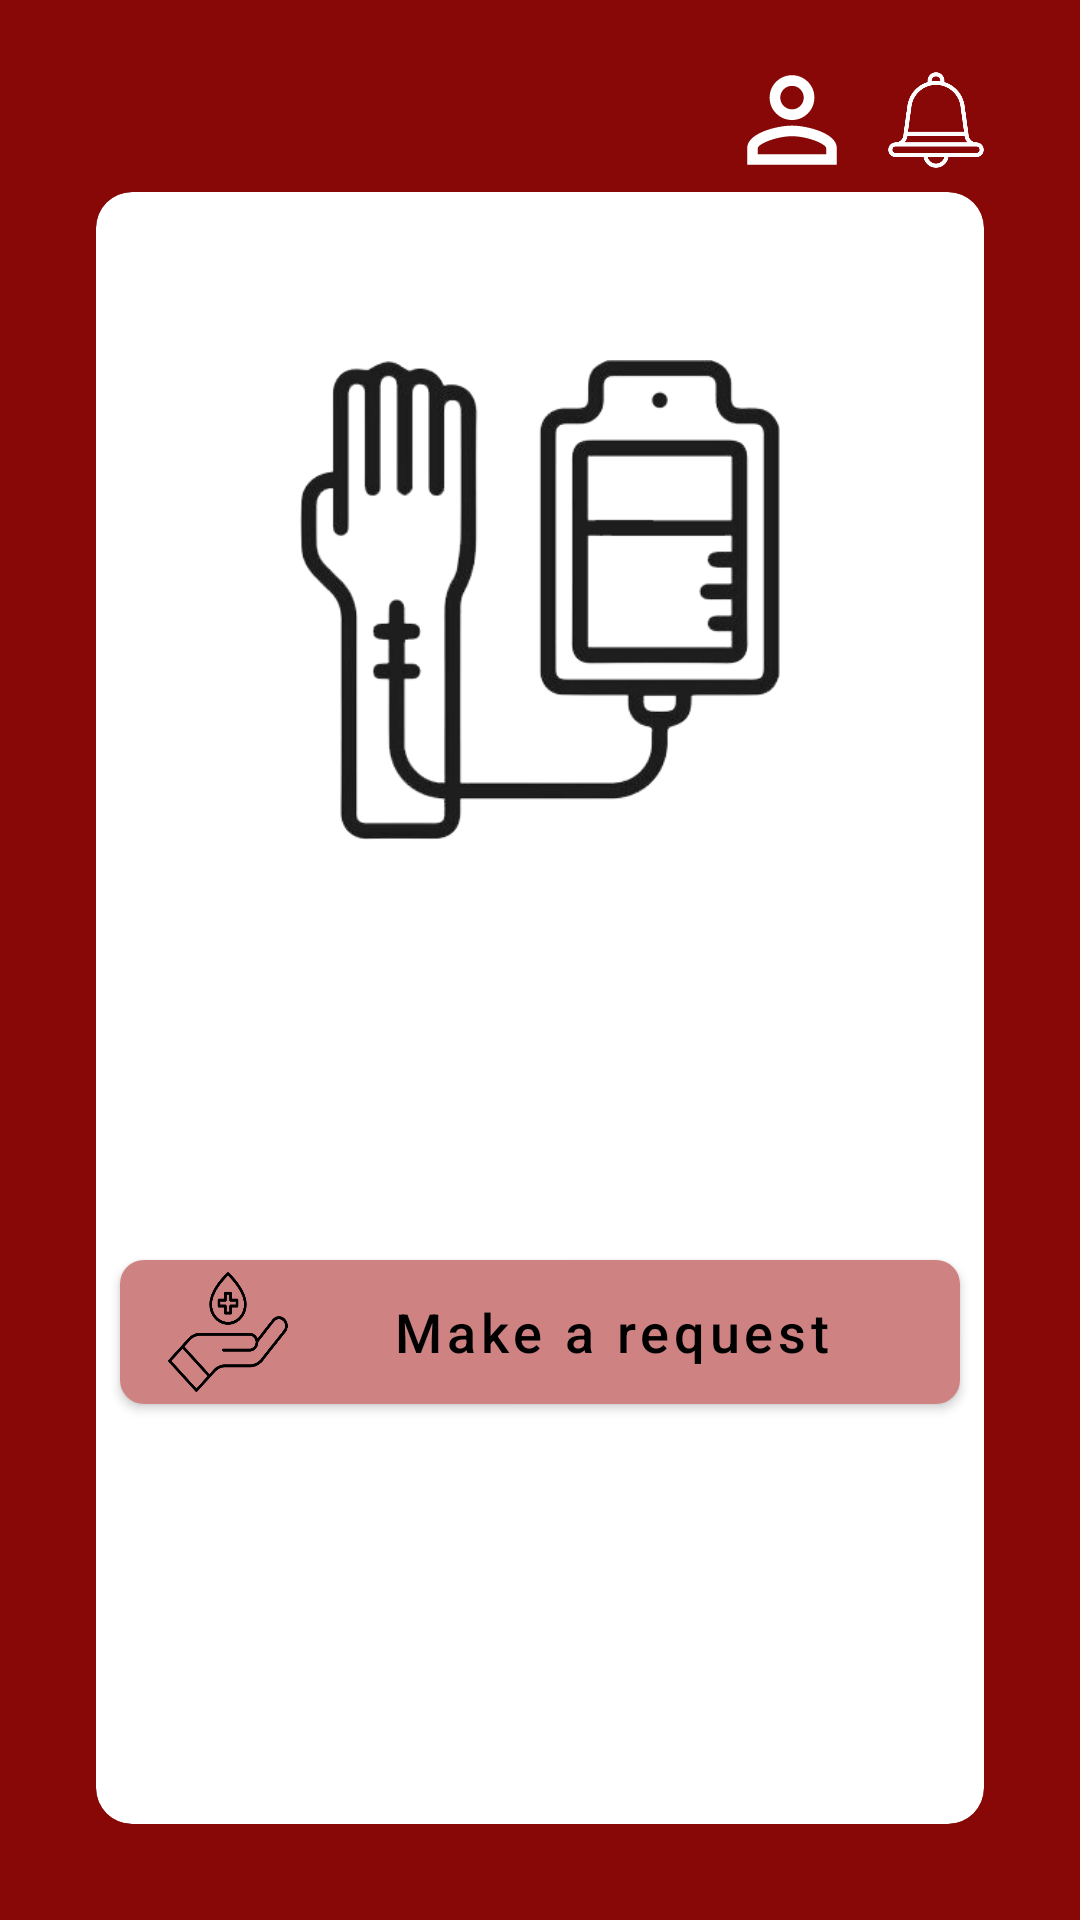

Screen size 1080w x 1920h. Icon name, then its center in pixels as (x=x, y=y):
notification: (x=936, y=120)
profile: (x=792, y=120)
